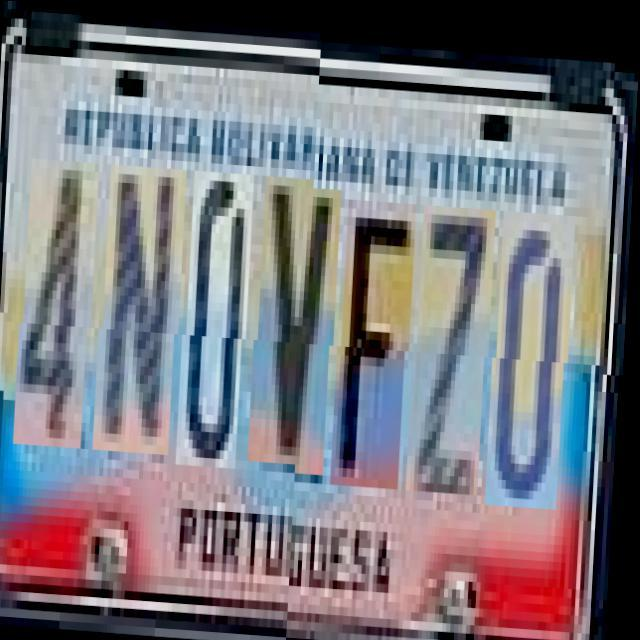0: (494, 195, 578, 492), (184, 168, 256, 464)
4: (22, 158, 101, 448)
F: (339, 186, 418, 474)
N: (102, 162, 188, 452)
V: (256, 172, 344, 462)
Z: (415, 190, 498, 480)
